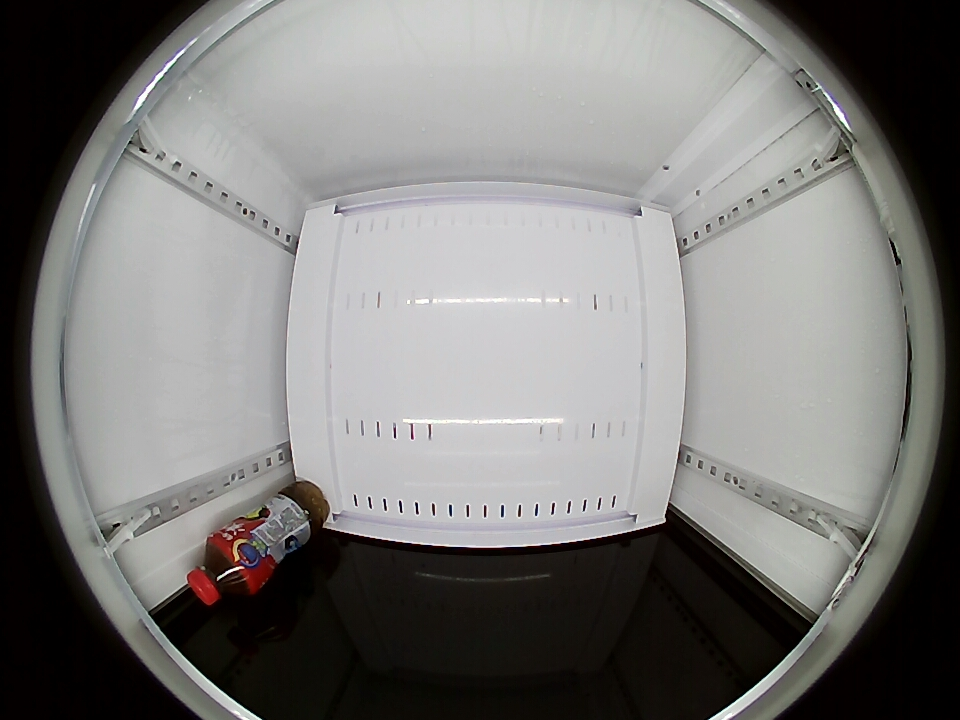binghongcha: (187, 531, 262, 606)
